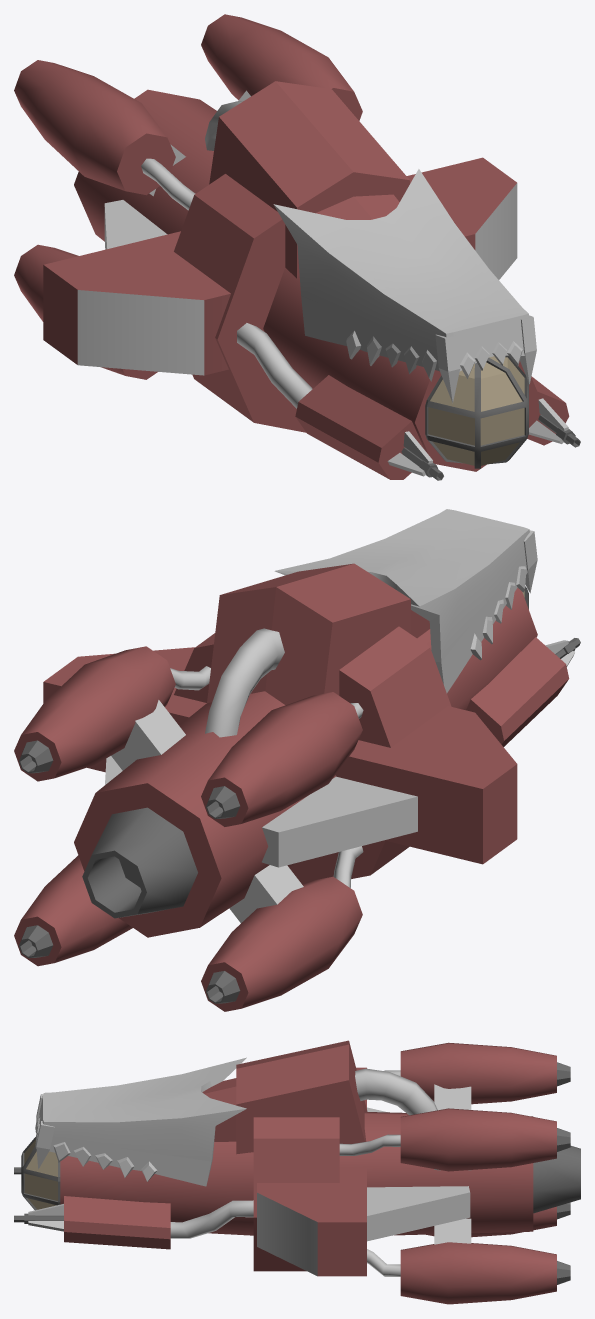
Rendered from Halk_Interceptor.fbx.
The picture shows the model from 3 angles, top to bottom: view 1: azimuth 30°, elevation 25°; view 2: azimuth 150°, elevation 25°; view 3: azimuth 270°, elevation 25°; orthographic projection. The views are drawn at different scales.
Visible parts, largest first — view 1: polySurface12; view 2: polySurface12; view 3: polySurface12.
Part boxes in pixels (<box>): polySurface12: <box>14,14,580,480</box>; polySurface12: <box>14,509,580,1011</box>; polySurface12: <box>14,1040,580,1304</box>.
Size of the model in its own units: 15.94 by 10.87 by 24.74.
